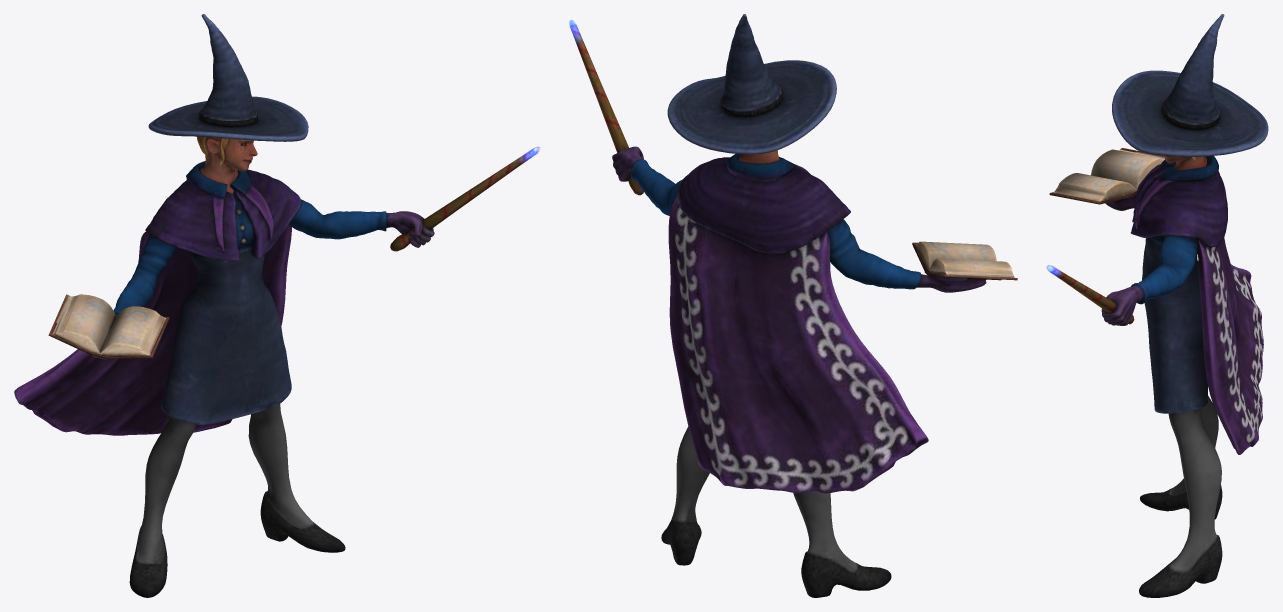
File: MZ4250 - Human Female Illusion Wizard_4.glb
3 renders of one model, left to right at view 1: azimuth 30°, elevation 25°; view 2: azimuth 150°, elevation 25°; view 3: azimuth 270°, elevation 25°, orthographic. The views are drawn at different scales.
Visible parts, largest first — view 1: Body.002; view 2: Body.002; view 3: Body.002.
Boxes of the visible parts, x1=… form: Body.002: x1=14, y1=14, x2=540, y2=597; Body.002: x1=569, y1=14, x2=1017, y2=597; Body.002: x1=1046, y1=14, x2=1268, y2=597.
Size of the model in its own units: 0.9377 by 1.05 by 0.3956.
Materials: 1 (1 with a texture image).
